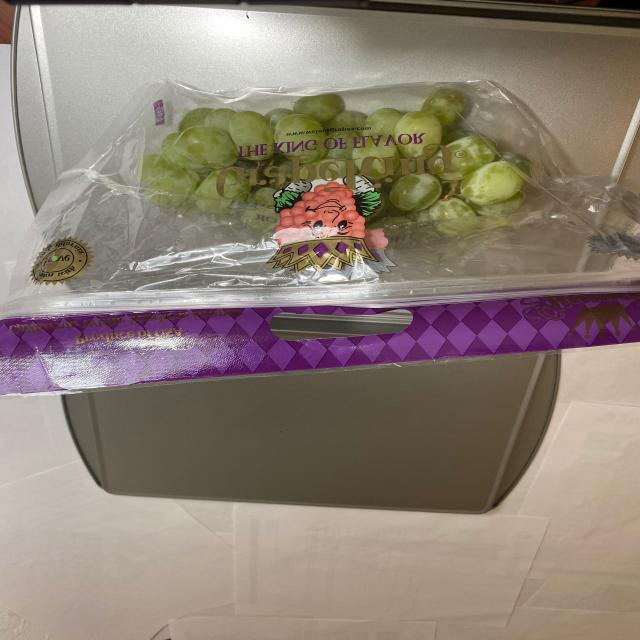grapes: (140, 96, 564, 232)
